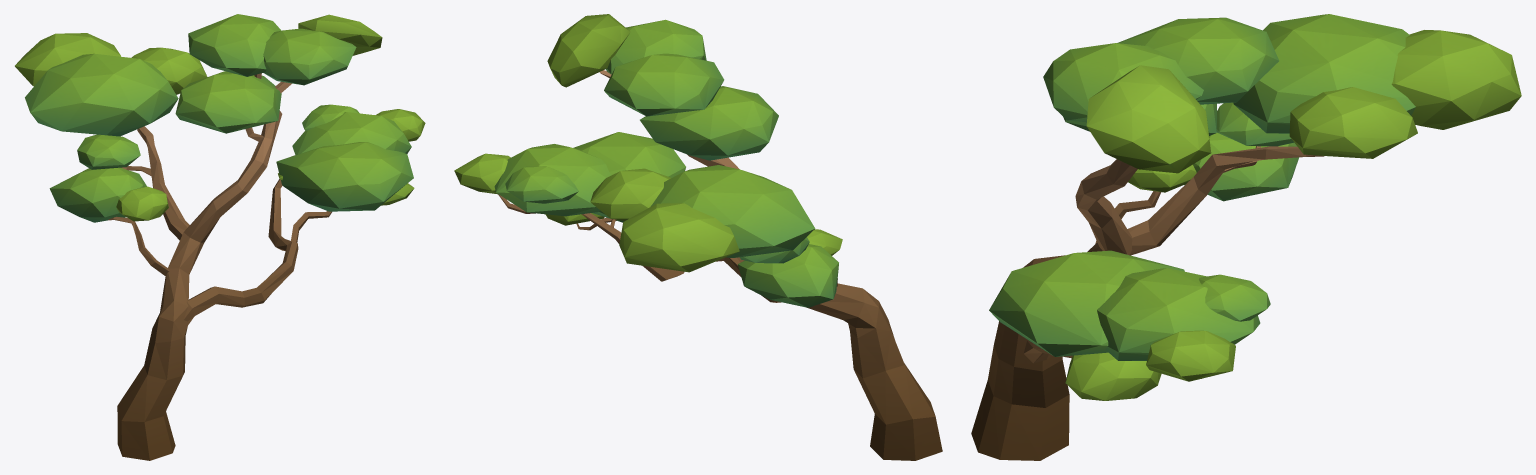
The model's file is ZLP_Plant_B_5.FBX.
3 renders of one model, left to right at view 1: azimuth 30°, elevation 25°; view 2: azimuth 150°, elevation 25°; view 3: azimuth 270°, elevation 25°, orthographic. The views are drawn at different scales.
Visible parts, largest first — view 1: ZLP_Plant_B_5; view 2: ZLP_Plant_B_5; view 3: ZLP_Plant_B_5.
Part boxes in pixels (x1,y1,x2,y2): ZLP_Plant_B_5: (15, 14, 425, 460); ZLP_Plant_B_5: (454, 14, 942, 460); ZLP_Plant_B_5: (971, 14, 1521, 460).
Size of the model in its own units: 447 by 411 by 383.
